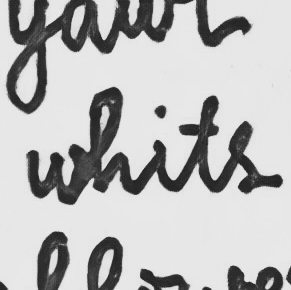h: (88, 85, 137, 195)
i: (147, 102, 171, 193)
s: (226, 118, 261, 196)
t: (175, 93, 222, 194)
w: (22, 141, 86, 207)
